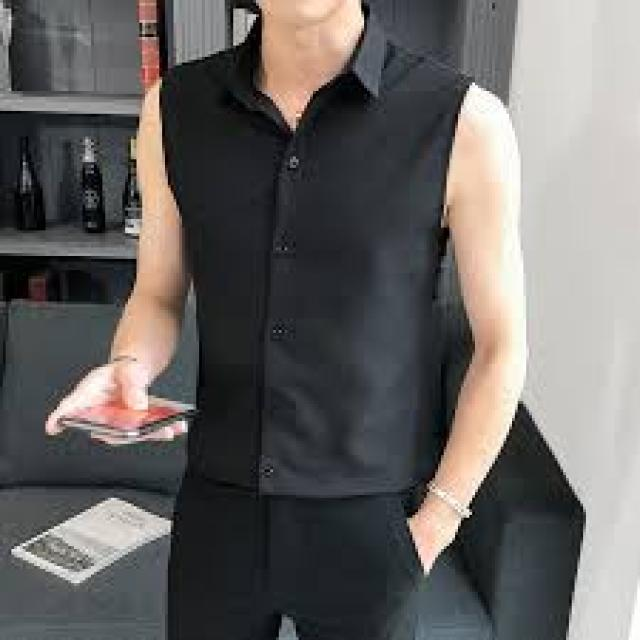no_vest: (160, 2, 477, 497)
